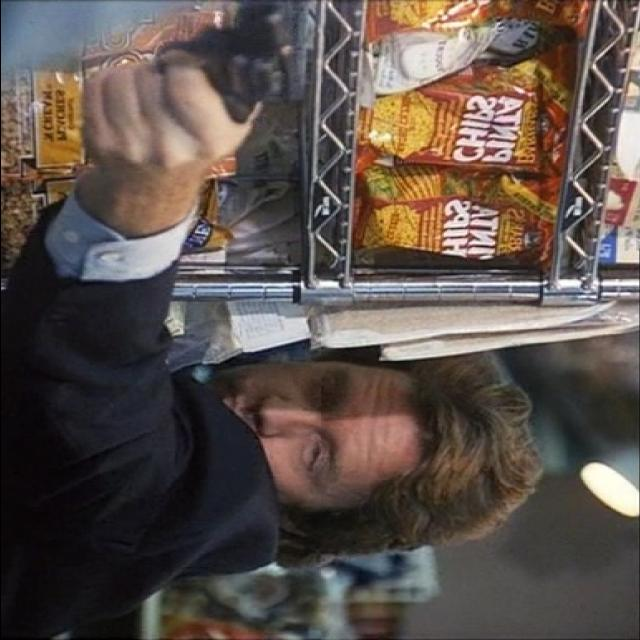weapons: (104, 3, 322, 141)
